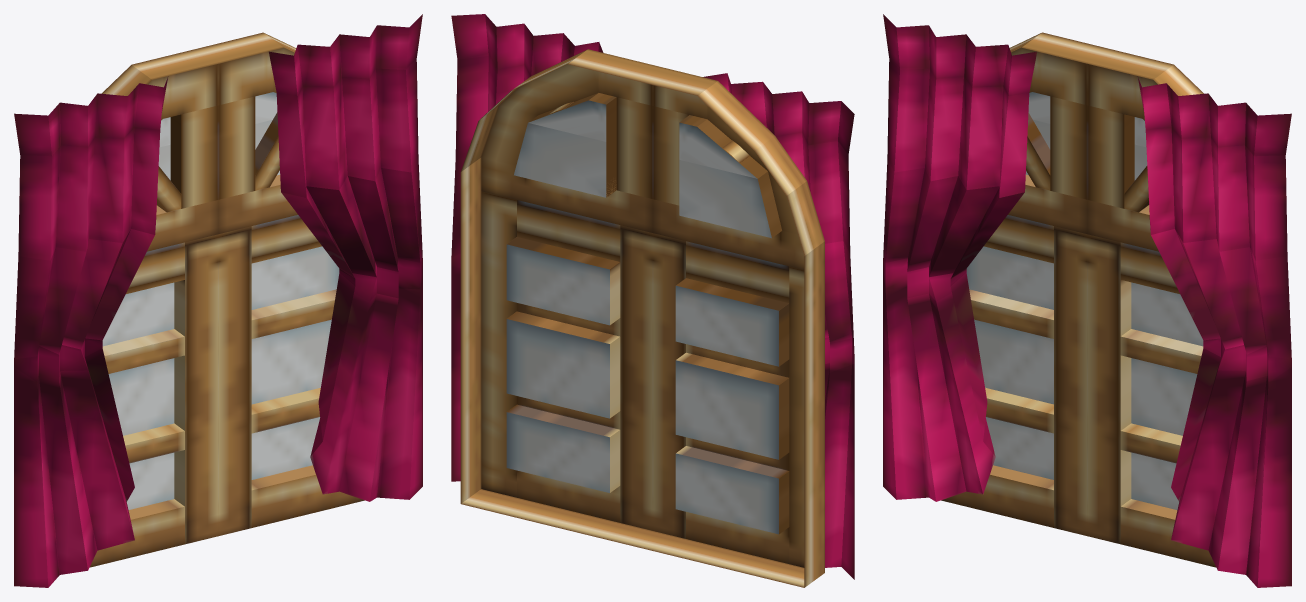
The model's file is Inside_Poly_Window_04.obj.
3 views of the same model, side by side, from view 1: azimuth 30°, elevation 25°; view 2: azimuth 150°, elevation 25°; view 3: azimuth 330°, elevation 25° (orthographic).
Visible parts, largest first — view 1: Plane_Plane.001, Cube.001_Cube; view 2: Cube.001_Cube, Plane_Plane.001; view 3: Plane_Plane.001, Cube.001_Cube.
Boxes of the visible parts, left/top/right/bottom form: Plane_Plane.001: left=14, top=14, right=422, bottom=587; Cube.001_Cube: left=89, top=32, right=364, bottom=567; Cube.001_Cube: left=460, top=49, right=824, bottom=587; Plane_Plane.001: left=451, top=14, right=854, bottom=579; Plane_Plane.001: left=883, top=14, right=1291, bottom=587; Cube.001_Cube: left=941, top=32, right=1216, bottom=567.
Bounding box in the file's own units: 1.13 × 1.25 × 0.1602.
1 material, 1 textured.
